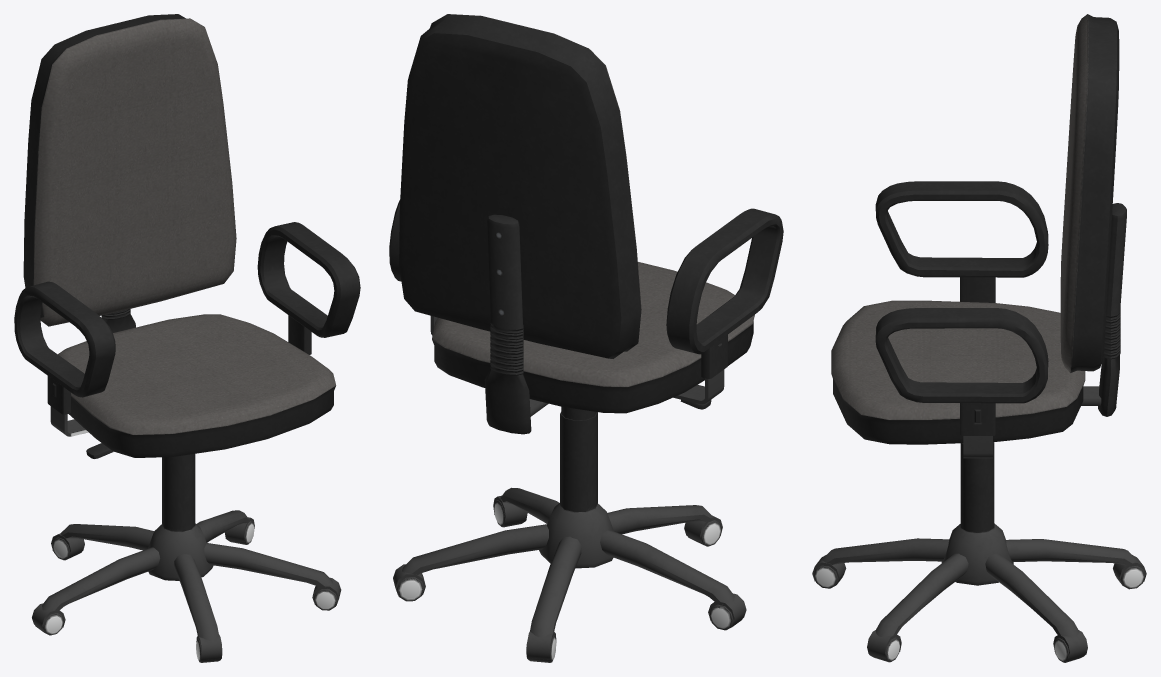
The model's file is oga_office_chair.glb.
3 views of the same model, side by side, from view 1: azimuth 30°, elevation 25°; view 2: azimuth 150°, elevation 25°; view 3: azimuth 270°, elevation 25° (orthographic). The views are drawn at different scales.
Visible parts, largest first — view 1: Cube_1; view 2: Cube_1; view 3: Cube_1.
Boxes of the visible parts, <box> form: Cube_1: <box>14,14,360,662</box>; Cube_1: <box>389,14,783,662</box>; Cube_1: <box>812,14,1146,662</box>.
Bounding box in the file's own units: 0.5518 × 1.01 × 0.5433.
1 material, 1 textured.
